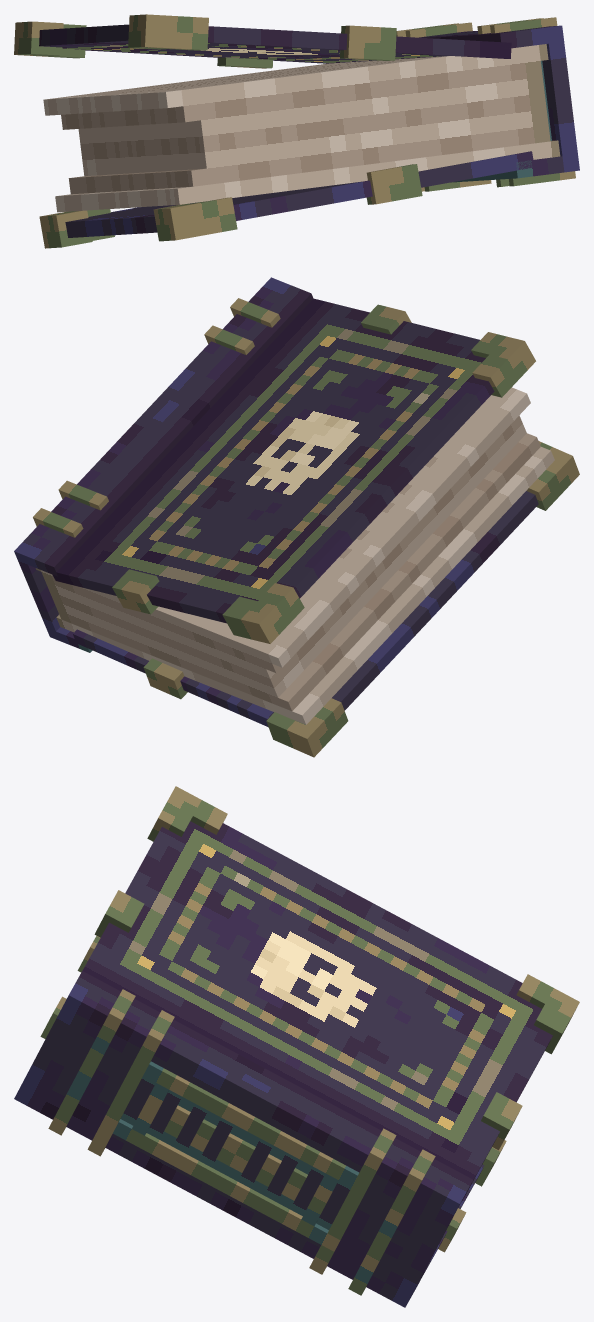
The model's file is Tome_of_XP_med_colors_r.gltf.
3 views of the same model, one above another, from view 1: azimuth 30°, elevation 25°; view 2: azimuth 150°, elevation 25°; view 3: azimuth 270°, elevation 25° (orthographic). The views are drawn at different scales.
Parts seen in each view (by area): view 1: Book-Local, cover-Local, cover_back-Local, corners-Local, corners_back-Local, spine-Local, spine_emboss-Local; view 2: cover-Local, Book-Local, spine-Local, corners-Local, cover_back-Local, corners_back-Local, spine_emboss-Local; view 3: cover-Local, spine-Local, spine_emboss-Local, corners-Local, corners_back-Local.
Boxes of the visible parts, x1=… form: Book-Local: x1=43, y1=44, x2=560, y2=212; cover-Local: x1=39, y1=24, x2=511, y2=63; cover_back-Local: x1=65, y1=151, x2=534, y2=237; corners-Local: x1=14, y1=14, x2=396, y2=68; corners_back-Local: x1=39, y1=164, x2=422, y2=248; spine-Local: x1=419, y1=25, x2=579, y2=182; spine_emboss-Local: x1=396, y1=17, x2=575, y2=191; cover-Local: x1=52, y1=298, x2=494, y2=623; Book-Local: x1=35, y1=387, x2=554, y2=724; spine-Local: x1=14, y1=277, x2=313, y2=652; corners-Local: x1=112, y1=304, x2=535, y2=643; cover_back-Local: x1=73, y1=491, x2=538, y2=727; corners_back-Local: x1=143, y1=441, x2=579, y2=757; spine_emboss-Local: x1=33, y1=298, x2=280, y2=537; cover-Local: x1=82, y1=821, x2=552, y2=1200; spine-Local: x1=14, y1=971, x2=472, y2=1307; spine_emboss-Local: x1=48, y1=989, x2=435, y2=1295; corners-Local: x1=94, y1=786, x2=579, y2=1150; corners_back-Local: x1=40, y1=935, x2=506, y2=1252.
Bounding box in the file's own units: 32.92 × 25.83 × 38.29.
Materials: 7 (7 with a texture image).
